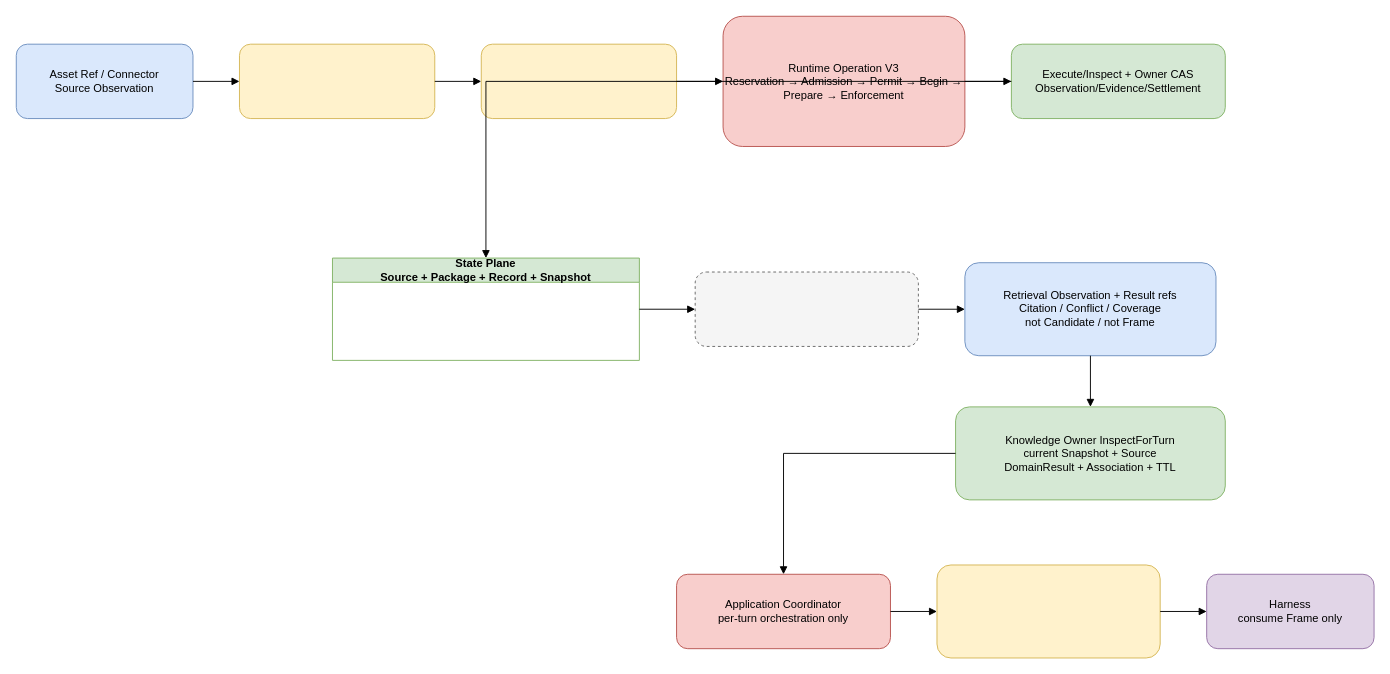
Image size: 1390x674. Some labels were removed from this diagram. Each missing label, with the box of its shape:
Acquire / Parse / Normalize Knowledge Candidate: (239, 43, 435, 119)
Context Owner materialize + budget + freeze exact Frame Ref: (936, 564, 1160, 658)
Knowledge Owner Admission + Conflict + Review: (480, 43, 677, 119)
Rebuildable Projections Skill / Lexical / Vector / Graph: (694, 271, 918, 346)
